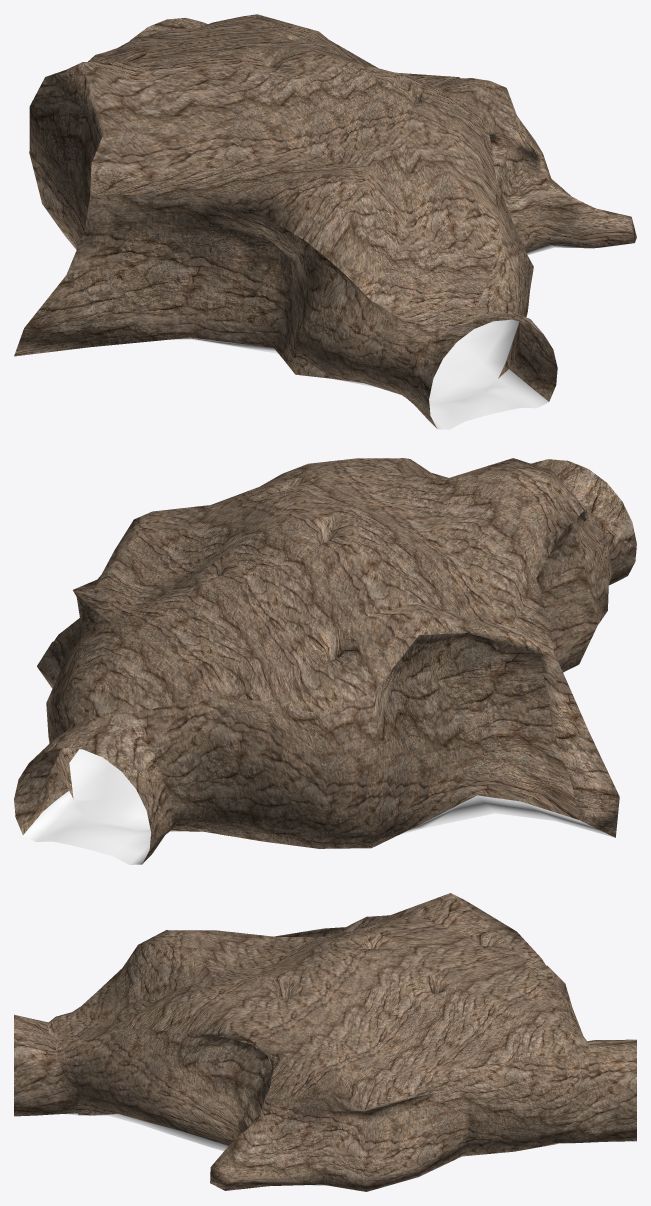
File: CaveRoomPlatformOpen.fbx
3 views of the same model, one above another, from view 1: azimuth 30°, elevation 25°; view 2: azimuth 150°, elevation 25°; view 3: azimuth 270°, elevation 25° (orthographic). The views are drawn at different scales.
Visible parts, largest first — view 1: CaveRoomPlatformOpen; view 2: CaveRoomPlatformOpen; view 3: CaveRoomPlatformOpen.
Boxes of the visible parts, x1=… form: CaveRoomPlatformOpen: x1=14, y1=14, x2=636, y2=429; CaveRoomPlatformOpen: x1=14, y1=458, x2=636, y2=864; CaveRoomPlatformOpen: x1=14, y1=893, x2=636, y2=1191.
Size of the model in its own units: 1335 by 546 by 1680.
